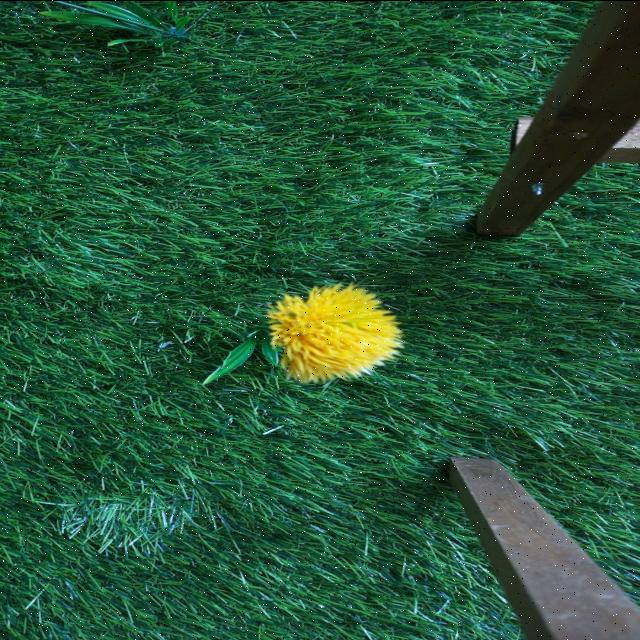base: (39, 0, 192, 45), (203, 312, 280, 384)
flower: (268, 286, 402, 382)
